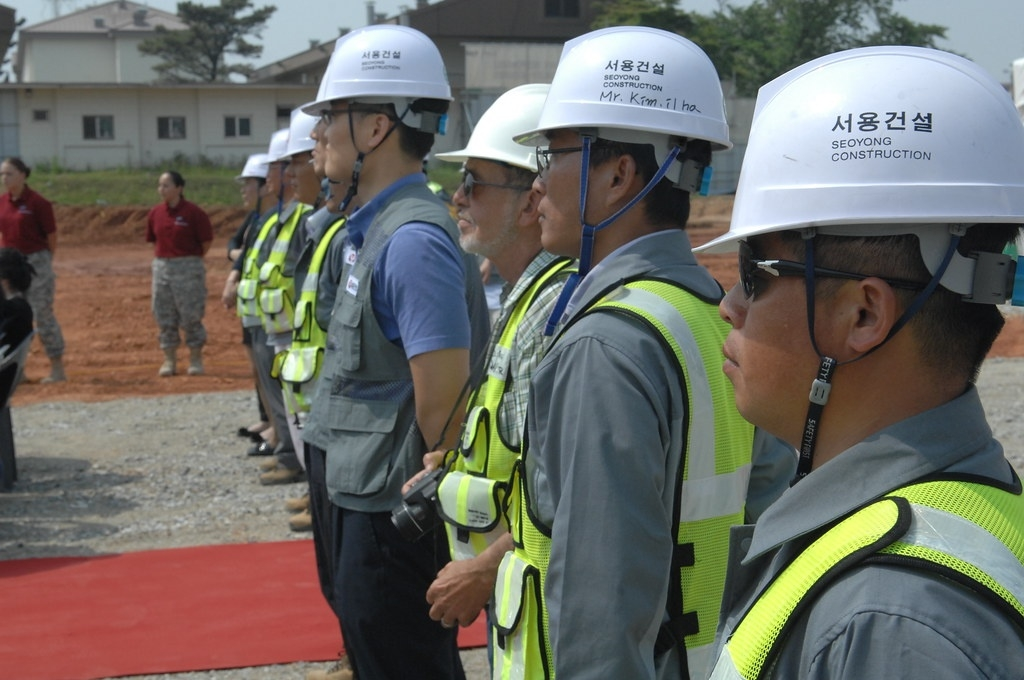People: (709, 46, 1023, 679), (495, 27, 753, 679), (304, 25, 488, 679), (431, 84, 564, 623), (0, 158, 64, 381), (146, 170, 212, 374)
helmet: (732, 47, 1023, 232), (536, 27, 730, 148), (313, 25, 451, 103), (456, 84, 549, 170), (282, 108, 318, 157)
